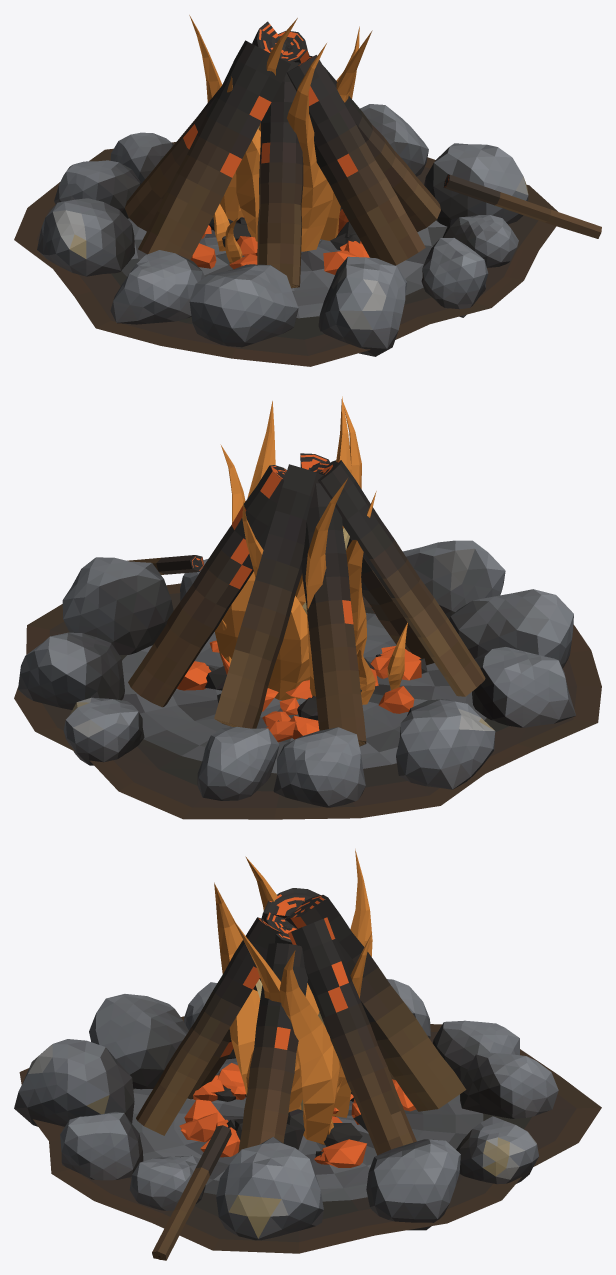
File: stone-ring-campfire.glb
3 views of the same model, one above another, from view 1: azimuth 30°, elevation 25°; view 2: azimuth 150°, elevation 25°; view 3: azimuth 270°, elevation 25° (orthographic). The views are drawn at different scales.
Visible parts, largest first — view 1: stone_ring_campfire; view 2: stone_ring_campfire; view 3: stone_ring_campfire.
Part boxes in pixels (bbox=[...]): stone_ring_campfire: bbox=[14, 15, 601, 366]; stone_ring_campfire: bbox=[14, 396, 601, 819]; stone_ring_campfire: bbox=[14, 849, 601, 1260].
Size of the model in its own units: 1.26 by 0.65 by 1.26.
